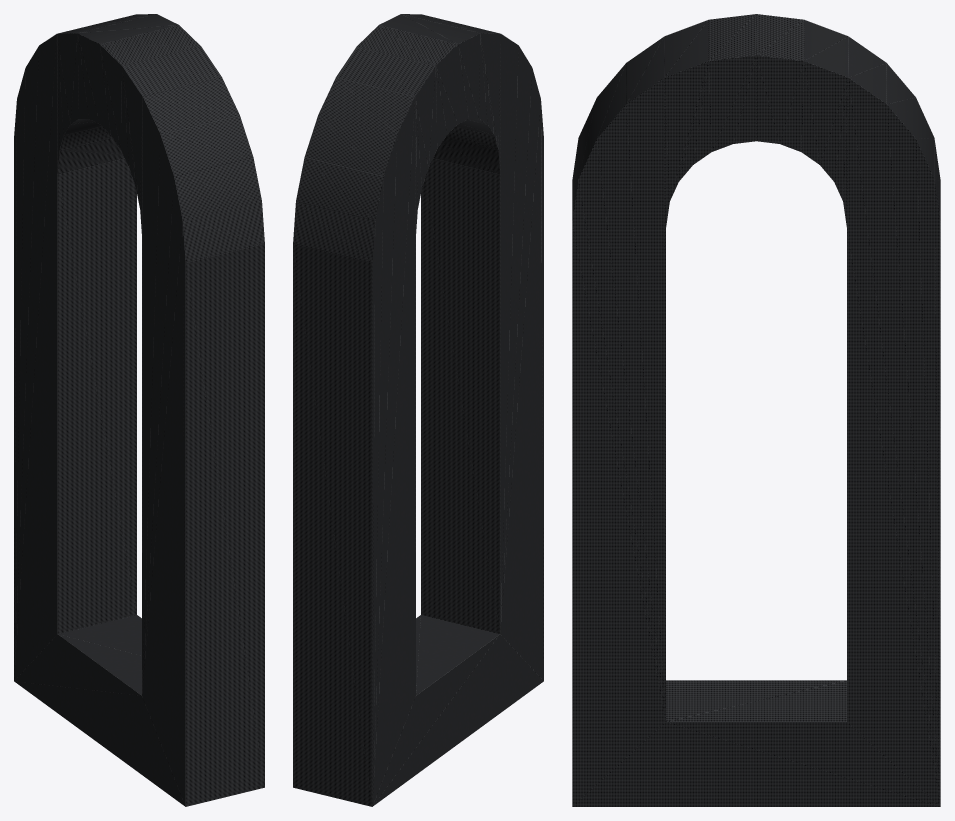
The model's file is modularBuildings_093.obj.
3 views of the same model, side by side, from view 1: azimuth 30°, elevation 25°; view 2: azimuth 150°, elevation 25°; view 3: azimuth 270°, elevation 25° (orthographic). The views are drawn at different scales.
Visible parts, largest first — view 1: Mesh1 Group1 Model; view 2: Mesh1 Group1 Model; view 3: Mesh1 Group1 Model.
Boxes of the visible parts, x1,y1,x2,y2 form: Mesh1 Group1 Model: (14,14,264,806); Mesh1 Group1 Model: (293,14,543,806); Mesh1 Group1 Model: (572,14,940,806).
Size of the model in its own units: 0.05 by 0.4219 by 0.1875.
Materials: 1 (1 with a texture image).
